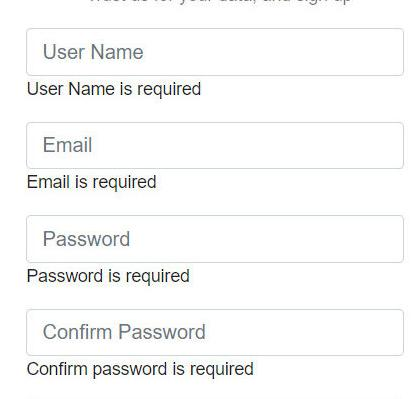field: (25, 27, 406, 77), (25, 214, 405, 264), (25, 122, 405, 171), (25, 308, 405, 356)
field_with_label: (23, 26, 408, 101), (23, 212, 408, 286), (23, 120, 407, 193), (23, 307, 407, 380)
